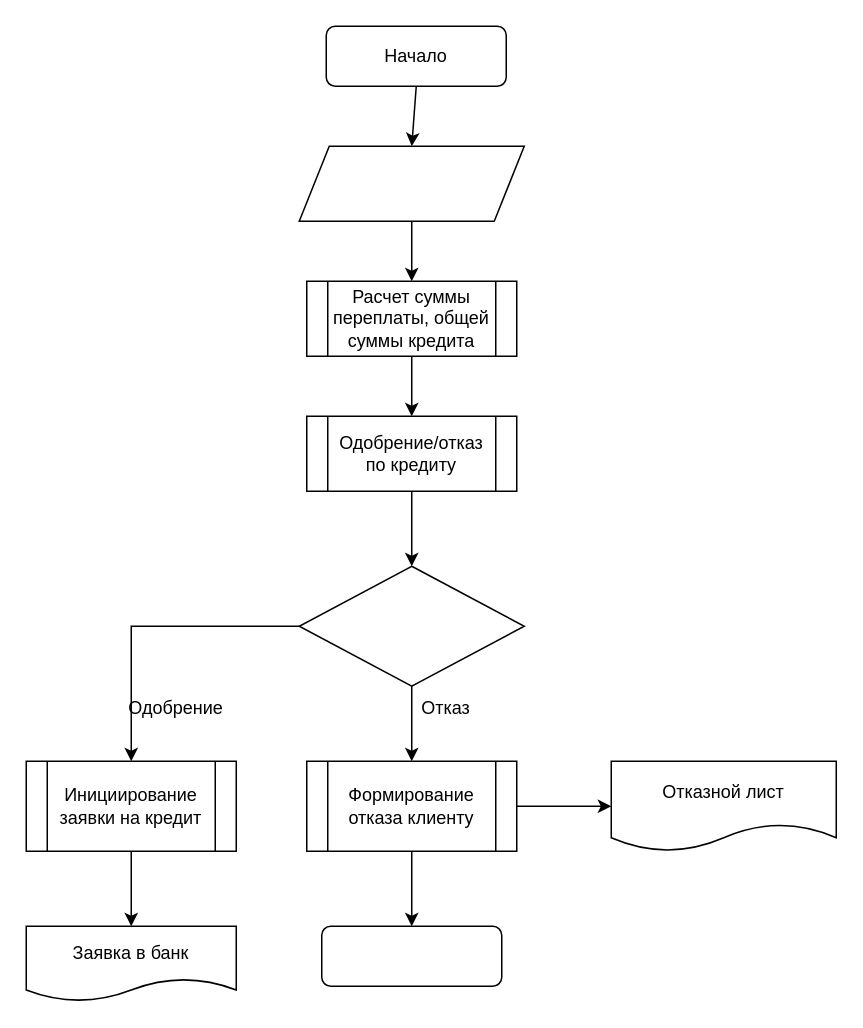
This 863x1028 diagram has some shape labels left out. Each missing label, with the centre of its shape:
"Ввод сроков и суммы кредита" goes at point (411, 183).
"Конец" goes at point (411, 955).
"Кредит одобрен?" goes at point (411, 625).
